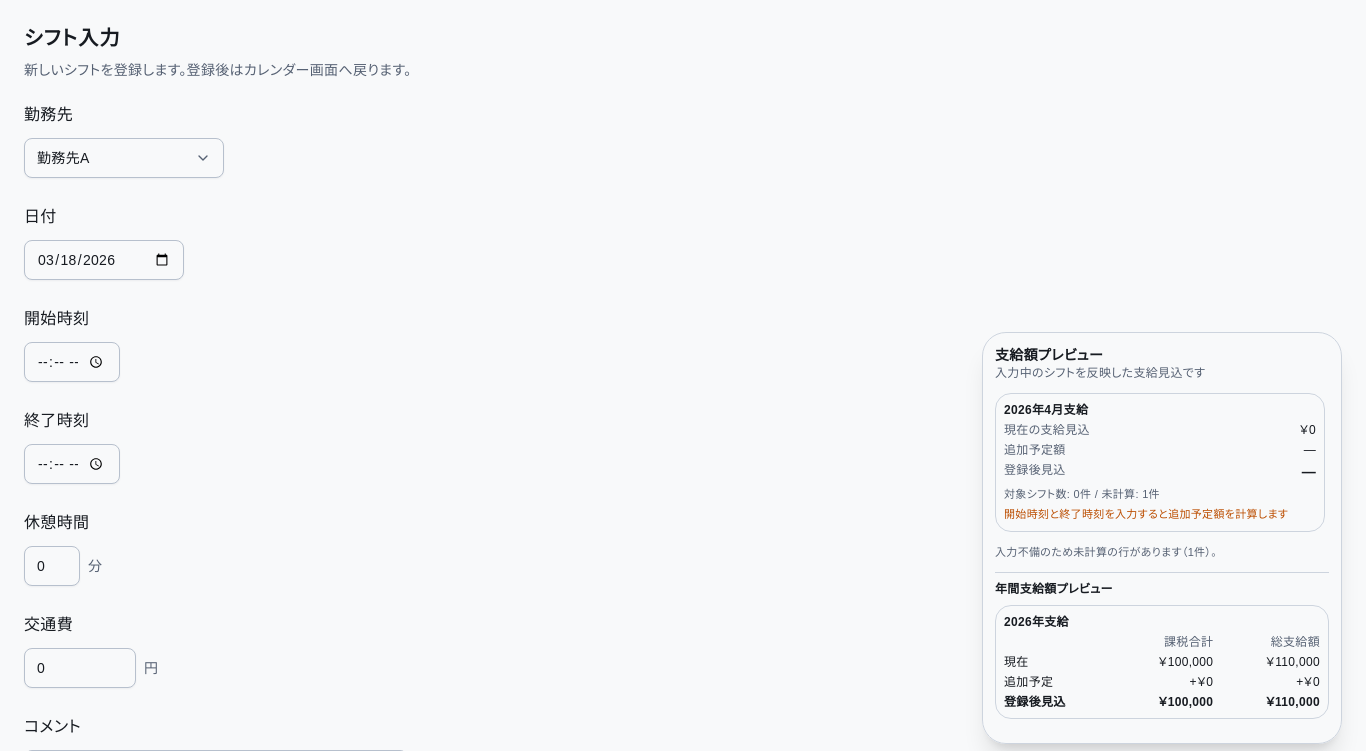
it: shift flow integration › keeps workplace options visible while switching workplaces and applies the next bootstrap payload on success
Step 1. Click the dropdown labelled "勤務先" → [124, 158], box [24,138,224,178]
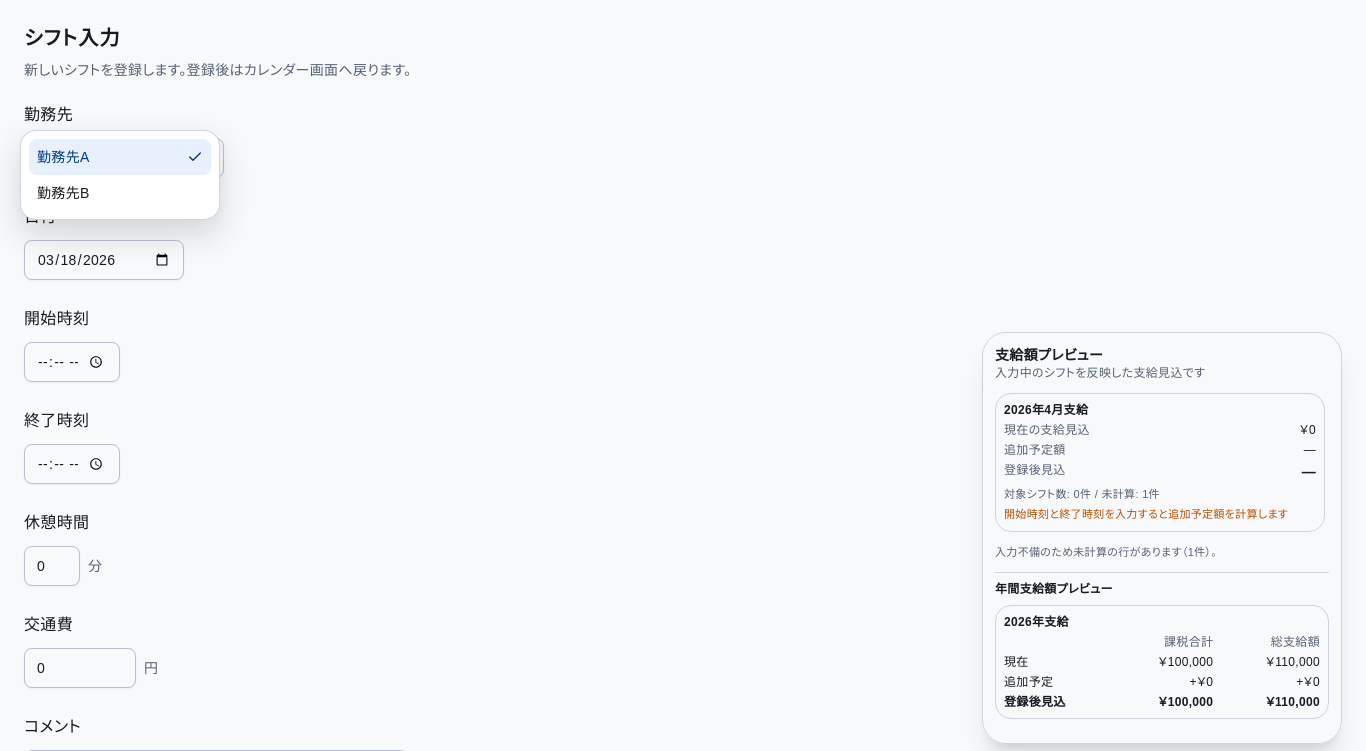
Check: the option "勤務先A" is shown, box [29,139,211,175]
Check: the option "勤務先B" is shown
Step 2. Click the option "勤務先B" → [63, 193], box [37,185,90,201]
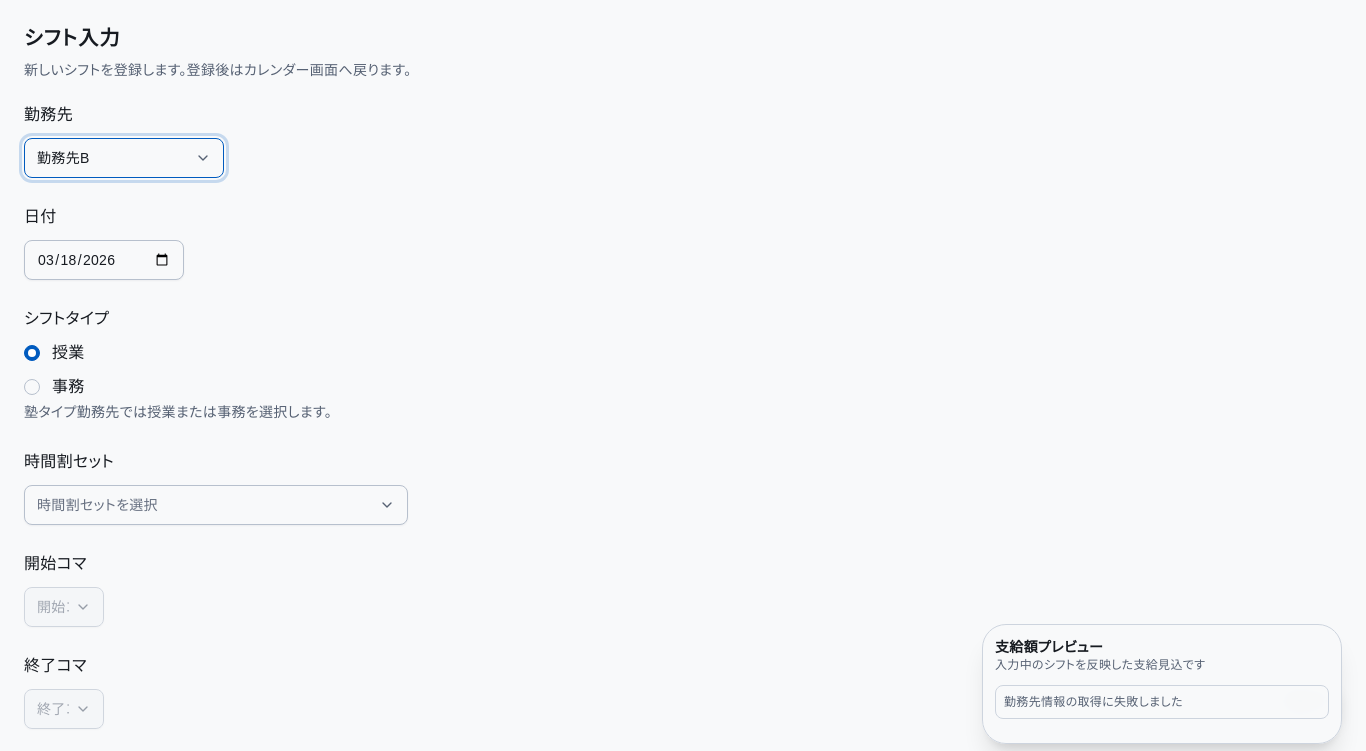
Check: the dropdown labelled "勤務先" shows "勤務先B"
Step 3. Click the dropdown labelled "勤務先" → [124, 158], box [24,138,224,178]
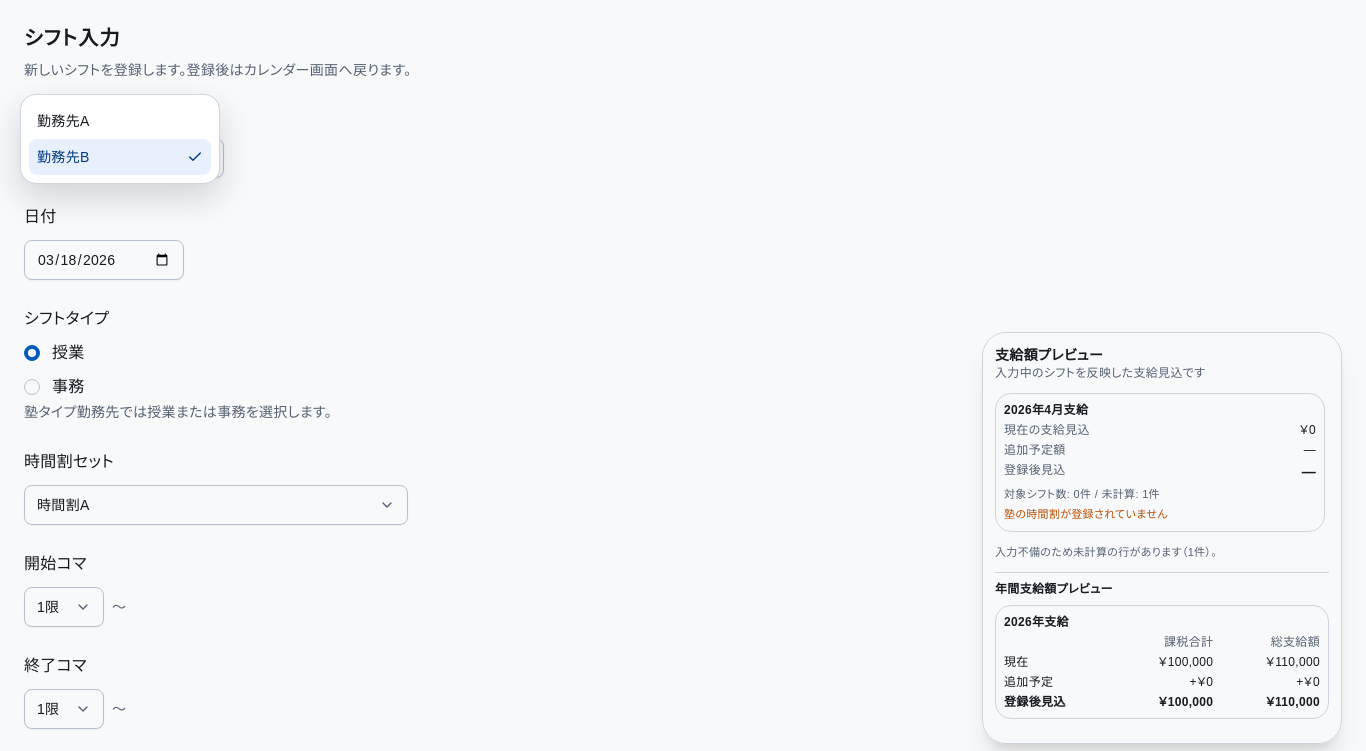
Check: the option "勤務先A" is shown, box [37,113,90,129]
Check: the option "勤務先B" is shown, box [29,139,211,175]
Check: the dropdown named "時間割セット" shows "時間割A", box [24,485,408,525]
